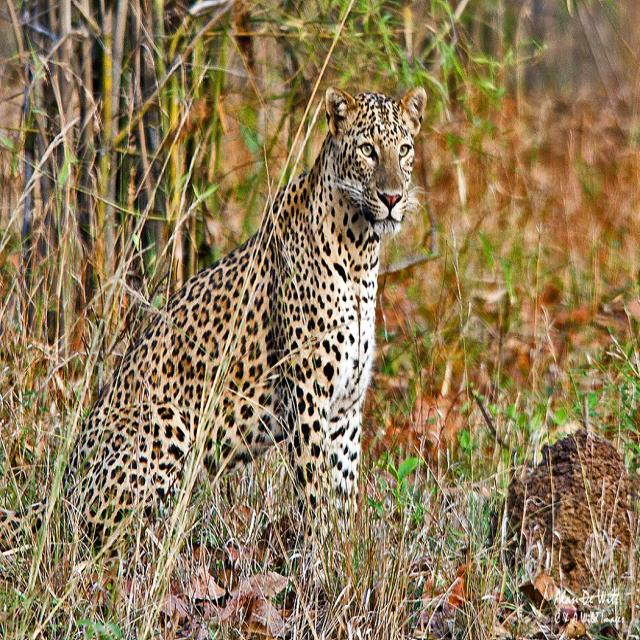Leopard: (56, 86, 430, 599)
